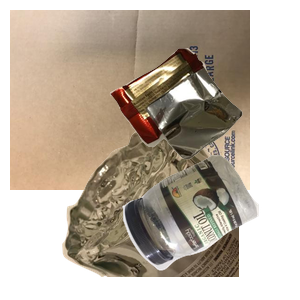cardboard: (10, 10, 250, 190)
glass: (60, 120, 300, 300)
plastic: (120, 152, 300, 300)
trash: (107, 46, 300, 198)
